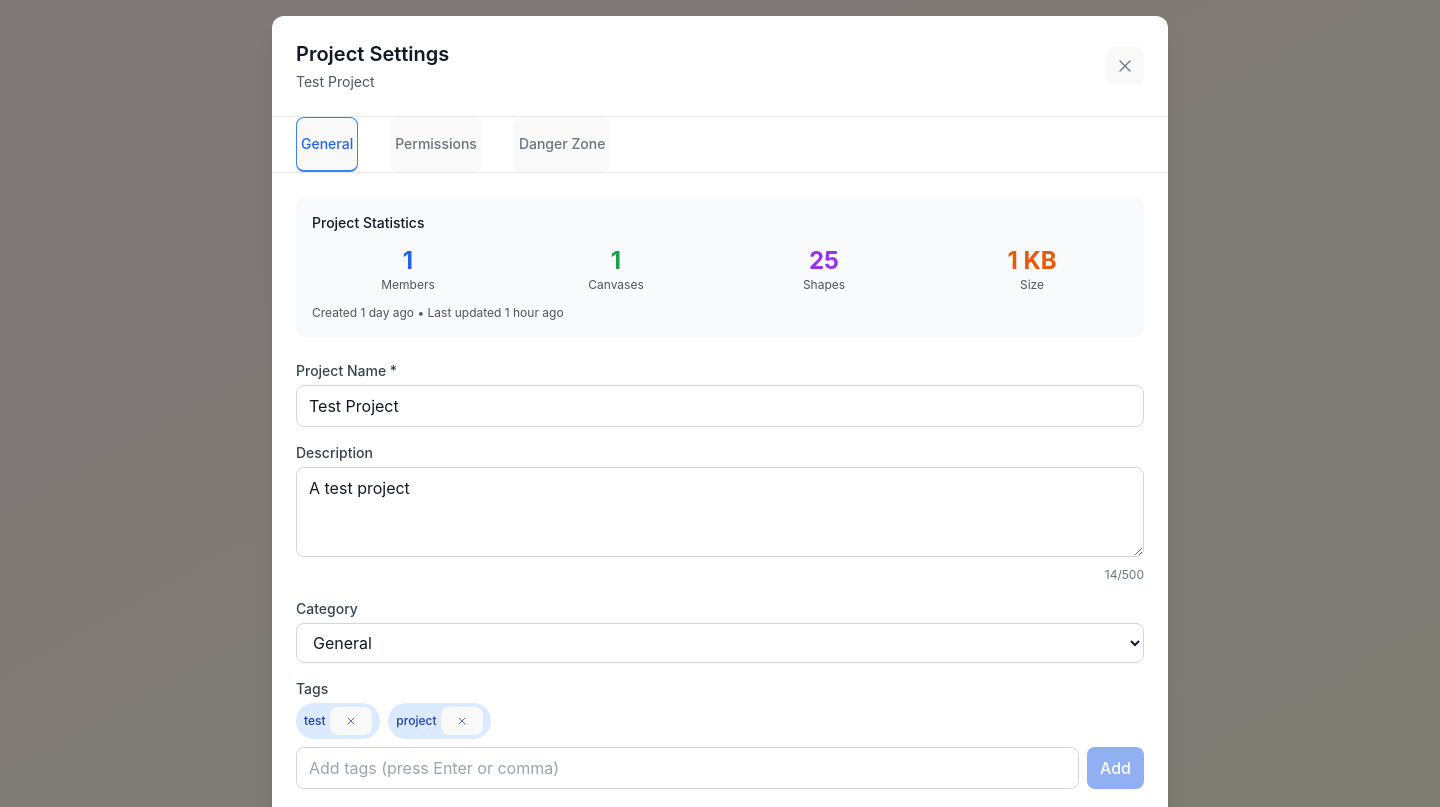
Test: ProjectSettingsModal › Tab Navigation › should switch to danger zone tab when clicked
Click the button "Danger Zone": (562, 144) [514,117,610,172]
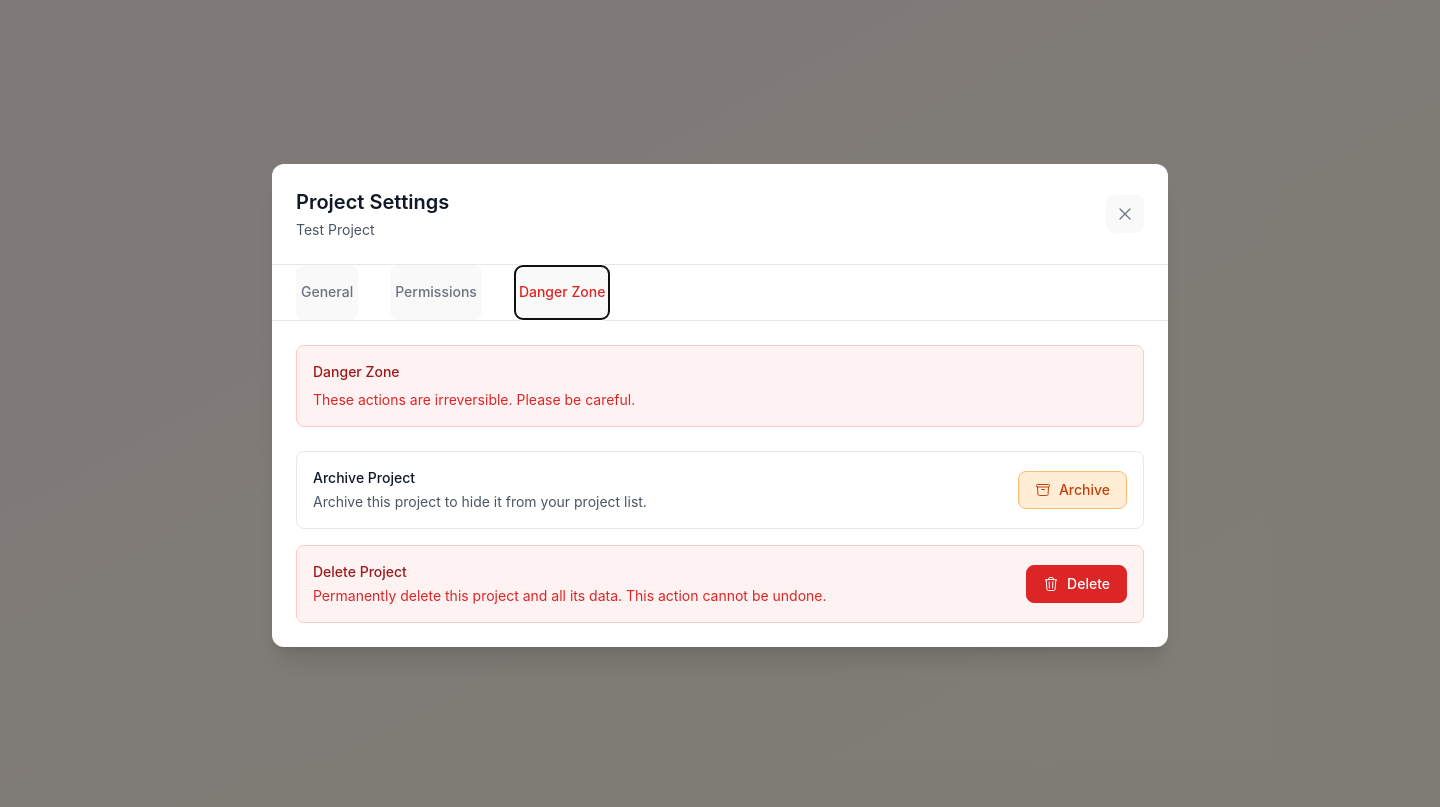
Now the text "These actions are irreversible. Please be careful." is shown, box [313,390,635,408]
